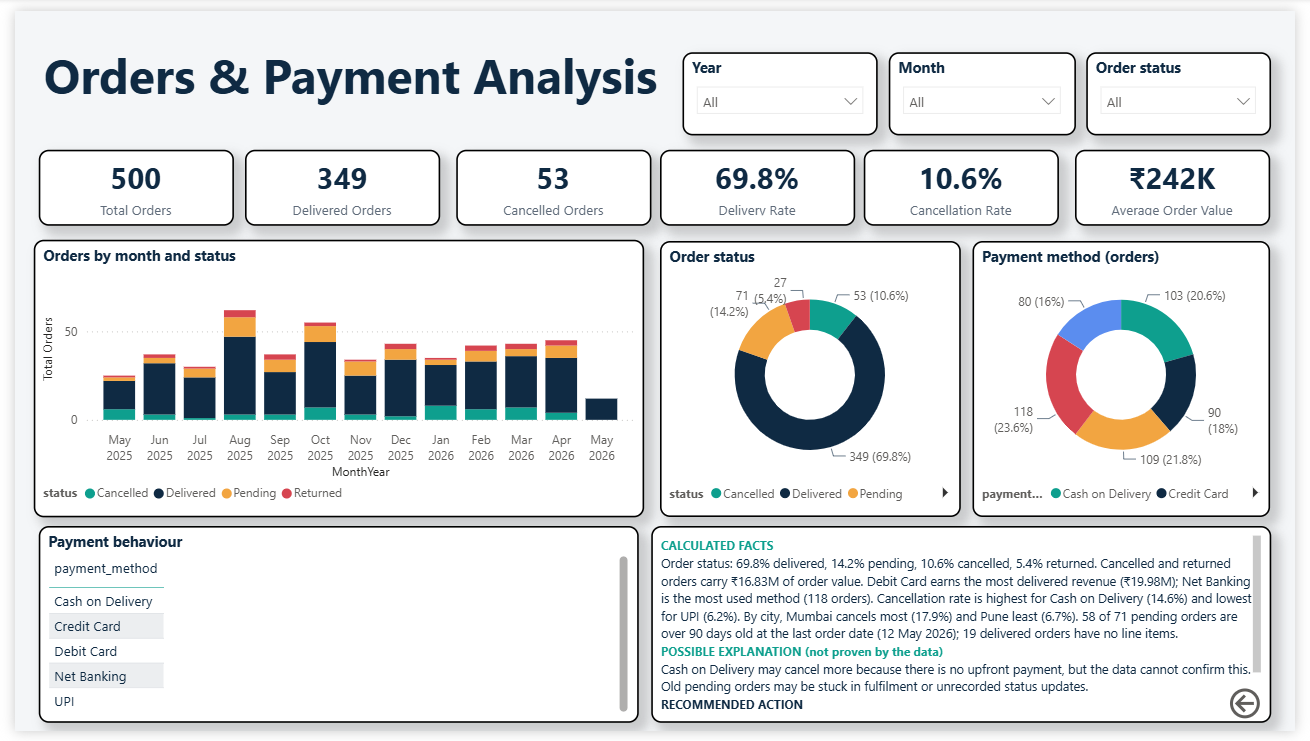

Layout of this report page (visuals, bound fields, positions):
{"tool":"powerbi","page":{"name":"5. Orders & Payment Analysis","canvas":[1280,720],"ordinal":4},"visuals":[{"type":"textbox","box":[24.1,8.4,1255.9,115.8],"z":100},{"type":"slicer","title":"Year","fields":{"Values":["Date.Year"]},"box":[667.2,41,195.4,83.2],"z":300},{"type":"slicer","title":"Month","fields":{"Values":["Date.MonthName"]},"box":[873.5,41,187,83.2],"z":400},{"type":"slicer","title":"Order status","fields":{"Values":["Orders.status"]},"box":[1071.3,41,184.6,83.2],"z":600},{"type":"card","fields":{"Values":["_Measures.Total Orders"]},"box":[24.1,138.7,195,76],"z":800},{"type":"card","fields":{"Values":["_Measures.Delivered Orders"]},"box":[230.4,138.7,195,76],"z":900},{"type":"card","fields":{"Values":["_Measures.Cancelled Orders"]},"box":[441.6,138.7,195,76],"z":1000},{"type":"card","fields":{"Values":["_Measures.Delivery Rate"]},"box":[645.4,138.7,195,76],"z":1100},{"type":"card","fields":{"Values":["_Measures.Cancellation Rate"]},"box":[849.3,138.7,195,76],"z":1200},{"type":"card","fields":{"Values":["_Measures.Average Order Value"]},"box":[1060.5,138.7,195,76],"z":1300},{"type":"columnChart","title":"Orders by month and status","fields":{"Category":["Date.MonthYear"],"Series":["Orders.status"],"Y":["_Measures.Total Orders"]},"box":[19.3,229.2,610.5,277.5],"z":1400},{"type":"donutChart","title":"Order status","fields":{"Category":["Orders.status"],"Y":["_Measures.Total Orders"]},"box":[645.4,230.4,300.4,276.3],"z":1500},{"type":"donutChart","title":"Payment method (orders)","fields":{"Category":["Orders.payment_method"],"Y":["_Measures.Total Orders"]},"box":[957.9,230.4,298,276.3],"z":1600},{"type":"tableEx","title":"Payment behaviour","fields":{"Values":["Orders.payment_method","_Measures.Total Orders","_Measures.Total Revenue","_Measures.Average Order Value","_Measures.Cancellation Rate","_Measures.Return Rate"]},"box":[24.1,515.2,599.6,196.6],"z":1700},{"type":"textbox","box":[635.8,515.2,620.1,196.6],"z":1800},{"type":"actionButton","box":[1210.1,672,54.3,39.8],"z":1801}]}

Visuals, with their boxes in screenshot pixels (x1, y1, x2, y2), scaled from the page's 1280x720 canvas onto the 1310x741 screenshot:
textbox: 25:9:1309:128
"Year" slicer: 683:42:883:128
"Month" slicer: 894:42:1085:128
"Order status" slicer: 1096:42:1285:128
card - _Measures.Total Orders: 25:143:224:221
card - _Measures.Delivered Orders: 236:143:435:221
card - _Measures.Cancelled Orders: 452:143:652:221
card - _Measures.Delivery Rate: 661:143:860:221
card - _Measures.Cancellation Rate: 869:143:1069:221
card - _Measures.Average Order Value: 1085:143:1285:221
"Orders by month and status" columnChart: 20:236:645:521
"Order status" donutChart: 661:237:968:521
"Payment method (orders)" donutChart: 980:237:1285:521
"Payment behaviour" tableEx: 25:530:638:733
textbox: 651:530:1285:733
actionButton: 1238:692:1294:733
